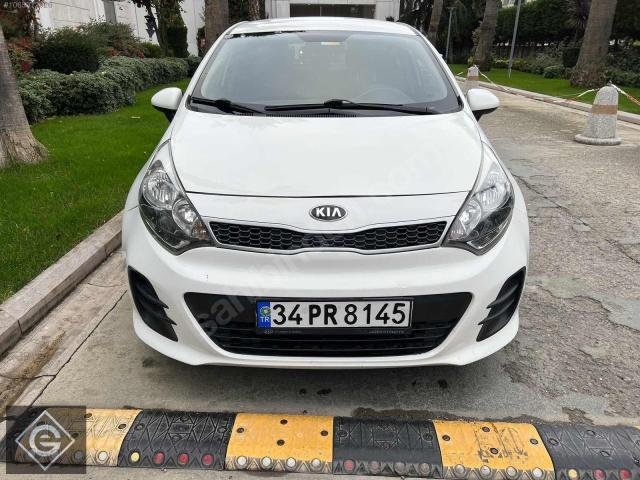plaka: (256, 298, 412, 334)
